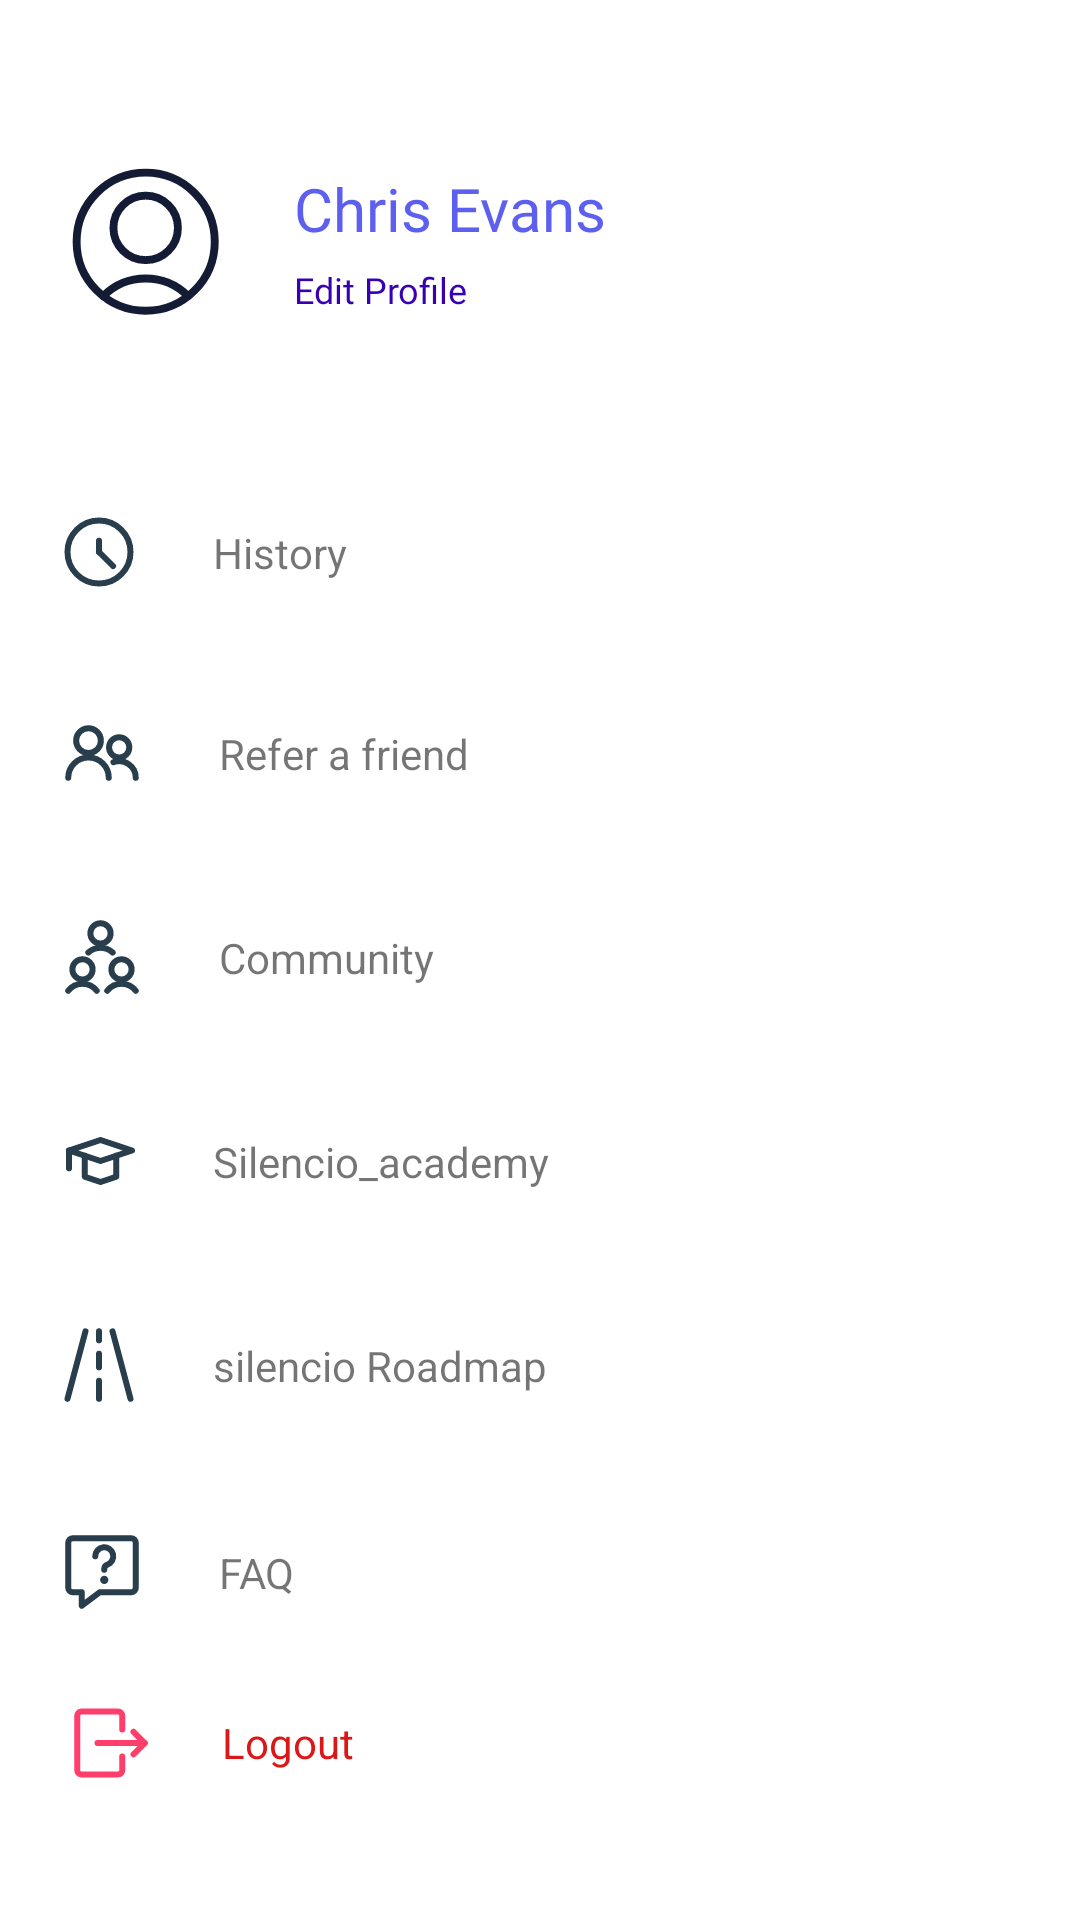

Named icons in this screenshot (1080px x 1920px) and their centers, (x,y):
learning exchange: (100,1161)
multiple neutral: (102,753)
road straight: (99,1365)
single neutral circle: (145,241)
time clock circle: (99,552)
